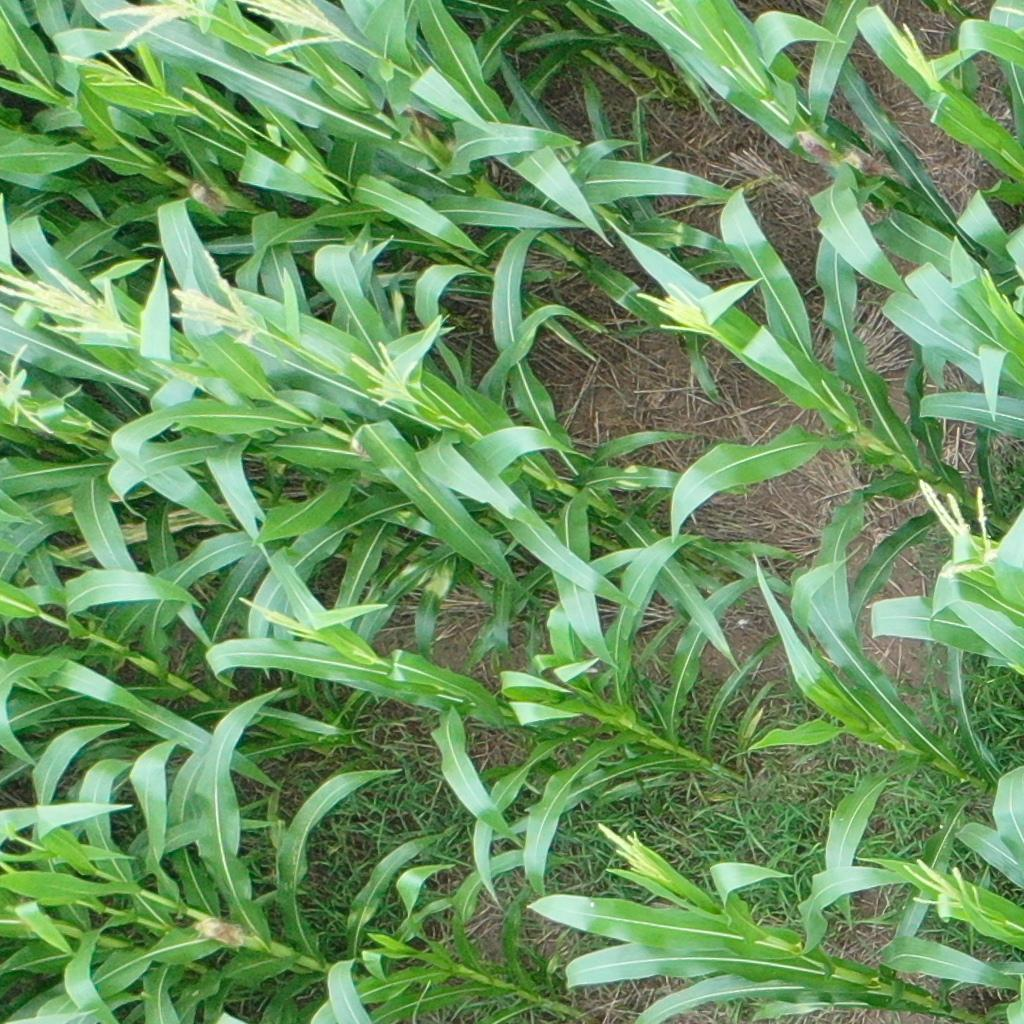Tassel: (169, 247, 267, 347), (1, 267, 132, 338), (919, 475, 1003, 579), (239, 1, 353, 63), (343, 341, 425, 410), (102, 1, 211, 51), (900, 855, 986, 916), (1, 343, 55, 439), (596, 818, 670, 883), (635, 285, 717, 339), (58, 45, 141, 95), (238, 591, 319, 641), (892, 19, 945, 93), (980, 265, 1012, 311), (653, 1, 685, 19)
